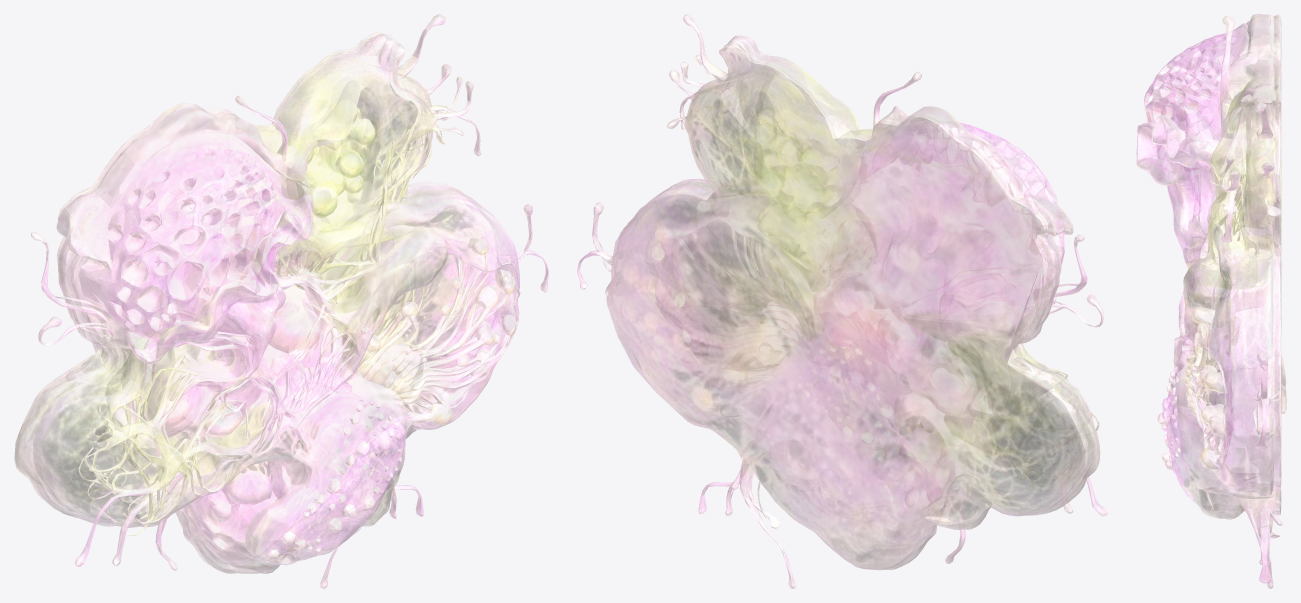
File: cell03.glb
3 views of the same model, side by side, from view 1: azimuth 30°, elevation 25°; view 2: azimuth 150°, elevation 25°; view 3: azimuth 270°, elevation 25° (orthographic). The views are drawn at different scales.
Parts seen in each view (by area): view 1: Mesh_0; view 2: Mesh_0; view 3: Mesh_0.
Part boxes in pixels (<box>): Mesh_0: <box>14,14,548,588</box>; Mesh_0: <box>577,14,1107,588</box>; Mesh_0: <box>1136,14,1286,588</box>.
Size of the model in its own units: 1.9 by 1.88 by 0.4776.
1 material, 1 textured.
